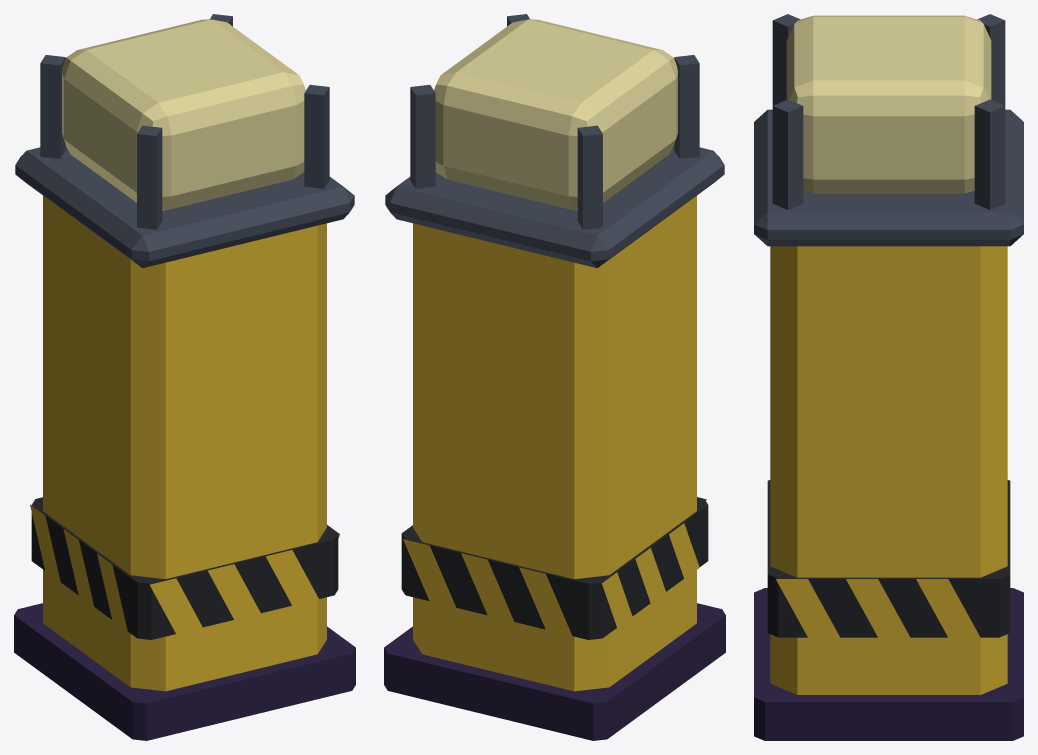
The model's file is neon-post.glb.
3 views of the same model, side by side, from view 1: azimuth 30°, elevation 25°; view 2: azimuth 150°, elevation 25°; view 3: azimuth 270°, elevation 25° (orthographic). The views are drawn at different scales.
Parts seen in each view (by area): view 1: neon-post; view 2: neon-post; view 3: neon-post.
Boxes of the visible parts, <box> form: neon-post: <box>14,14,355,740</box>; neon-post: <box>384,14,725,740</box>; neon-post: <box>754,14,1023,740</box>.
Size of the model in its own units: 0.5 by 1.3 by 0.5.
